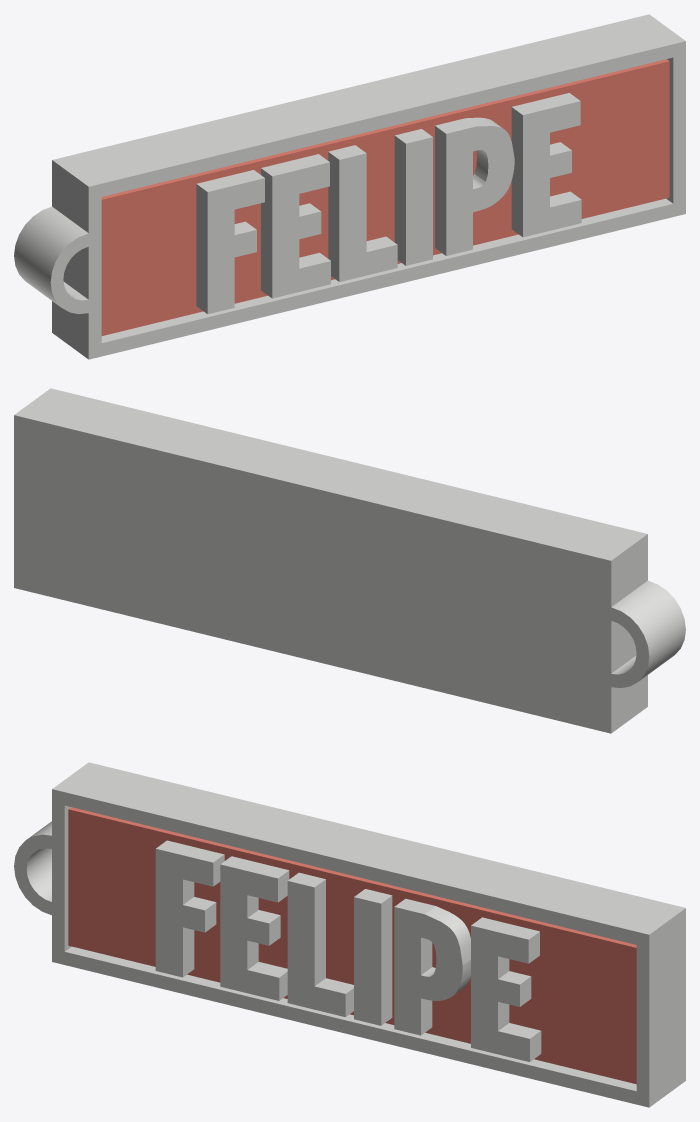
3 views of the same model, one above another, from view 1: azimuth 30°, elevation 25°; view 2: azimuth 150°, elevation 25°; view 3: azimuth 330°, elevation 25° (orthographic).
Visible parts, largest first — view 1: Llavero Marvel; view 2: Llavero Marvel; view 3: Llavero Marvel.
Part boxes in pixels (x1,y1,x2,y2): Llavero Marvel: (14,14,685,359); Llavero Marvel: (14,388,685,733); Llavero Marvel: (14,762,685,1107).
Bounding box in the file's own units: 5 × 1.3 × 0.6038.
